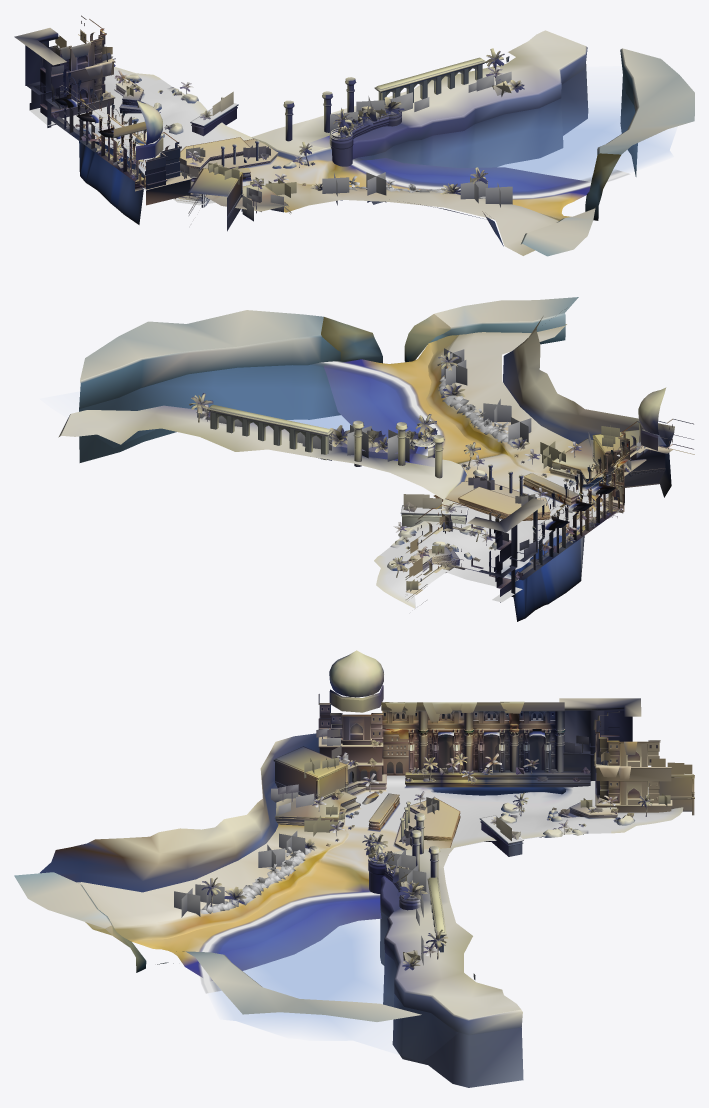
The model's file is 07Beach.gltf.
3 renders of one model, top to bottom at view 1: azimuth 30°, elevation 25°; view 2: azimuth 150°, elevation 25°; view 3: azimuth 270°, elevation 25°, orthographic. The views are drawn at different scales.
Visible parts, largest first — view 1: stg010_o08_Mesh_0009, stg010_w08_Mesh_0000, stg010_o08_Mesh_0002, stg010_o08_Mesh_0000, stg010_o35_Mesh_0003, stg010_o08_Mesh_0001, stg010_p08_Mesh_0010, stg010_o09_Mesh_0001, stg010_o08_Mesh_0011, stg010_o17_Mesh_0012, stg010_o08_Mesh_0007, stg010_wave_Mesh_0000 (+18 smaller); view 2: stg010_o08_Mesh_0009, stg010_o35_Mesh_0003, stg010_o08_Mesh_0002, stg010_w08_Mesh_0000, stg010_o08_Mesh_0000, stg010_o08_Mesh_0001, stg010_o09_Mesh_0001, stg010_o17_Mesh_0023, stg010_p08_Mesh_0010, stg010_o08_Mesh_0011, stg010_o35_Mesh_0001, stg010_o17_Mesh_0006 (+16 smaller); view 3: stg010_o08_Mesh_0009, stg010_w08_Mesh_0000, stg010_o08_Mesh_0000, stg010_o17_Mesh_0023, stg010_o08_Mesh_0001, stg010_o08_Mesh_0002, stg010_o35_Mesh_0003, stg010_o09_Mesh_0001, stg010_o08_Mesh_0011, stg010_p08_Mesh_0010, stg010_o17_Mesh_0012, stg010_o08_Mesh_0006 (+22 smaller).
Part boxes in pixels (x1=…): stg010_o08_Mesh_0009: x1=88, y1=30, x2=694, y2=256; stg010_w08_Mesh_0000: x1=361, y1=101, x2=672, y2=193; stg010_o08_Mesh_0002: x1=353, y1=63, x2=637, y2=204; stg010_o08_Mesh_0000: x1=41, y1=59, x2=558, y2=255; stg010_o35_Mesh_0003: x1=79, y1=46, x2=639, y2=244; stg010_o08_Mesh_0001: x1=14, y1=15, x2=486, y2=230; stg010_p08_Mesh_0010: x1=51, y1=29, x2=512, y2=221; stg010_o09_Mesh_0001: x1=29, y1=67, x2=250, y2=205; stg010_o08_Mesh_0011: x1=331, y1=161, x2=586, y2=218; stg010_o17_Mesh_0012: x1=25, y1=41, x2=241, y2=217; stg010_o08_Mesh_0007: x1=29, y1=30, x2=477, y2=227; stg010_wave_Mesh_0000: x1=351, y1=158, x2=628, y2=199; stg010_o08_Mesh_0009: x1=61, y1=297, x2=578, y2=570; stg010_o35_Mesh_0003: x1=58, y1=313, x2=584, y2=621; stg010_o08_Mesh_0002: x1=79, y1=359, x2=397, y2=462; stg010_w08_Mesh_0000: x1=135, y1=364, x2=424, y2=453; stg010_o08_Mesh_0000: x1=331, y1=324, x2=672, y2=594; stg010_o08_Mesh_0001: x1=207, y1=404, x2=694, y2=604; stg010_o09_Mesh_0001: x1=374, y1=475, x2=619, y2=608; stg010_o17_Mesh_0023: x1=503, y1=316, x2=674, y2=497; stg010_p08_Mesh_0010: x1=197, y1=348, x2=648, y2=591; stg010_o08_Mesh_0011: x1=361, y1=343, x2=497, y2=463; stg010_o35_Mesh_0001: x1=321, y1=314, x2=627, y2=520; stg010_o17_Mesh_0006: x1=209, y1=411, x2=665, y2=599; stg010_o08_Mesh_0009: x1=14, y1=787, x2=632, y2=1021; stg010_w08_Mesh_0000: x1=214, y1=899, x2=400, y2=1037; stg010_o08_Mesh_0000: x1=77, y1=735, x2=671, y2=929; stg010_o17_Mesh_0023: x1=40, y1=733, x2=319, y2=892; stg010_o08_Mesh_0001: x1=273, y1=694, x2=694, y2=952; stg010_o08_Mesh_0002: x1=185, y1=901, x2=523, y2=1087; stg010_o35_Mesh_0003: x1=80, y1=787, x2=634, y2=1035; stg010_o09_Mesh_0001: x1=344, y1=775, x2=681, y2=847; stg010_o08_Mesh_0011: x1=132, y1=863, x2=380, y2=966; stg010_p08_Mesh_0010: x1=174, y1=728, x2=692, y2=965; stg010_o17_Mesh_0012: x1=275, y1=710, x2=691, y2=812; stg010_o08_Mesh_0006: x1=275, y1=687, x2=640, y2=952.
Size of the model in its own units: 615 by 175 by 598.
